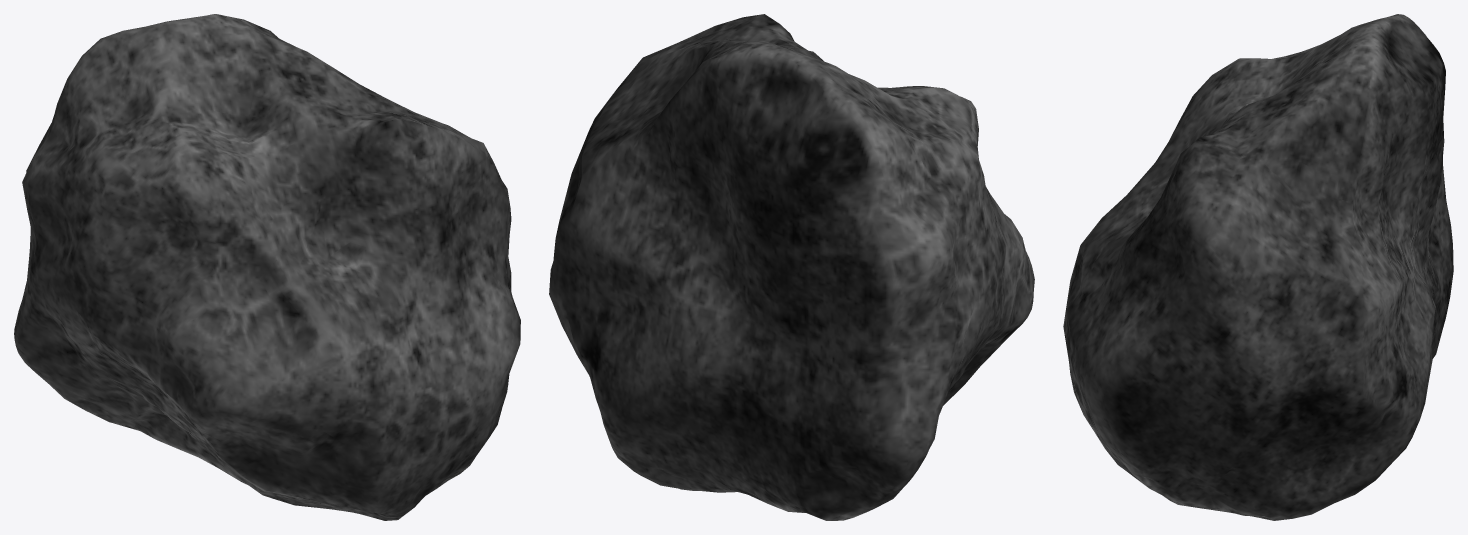
The model's file is Asteroid_4.fbx.
The picture shows the model from 3 angles, left to right: view 1: azimuth 30°, elevation 25°; view 2: azimuth 150°, elevation 25°; view 3: azimuth 270°, elevation 25°; orthographic projection. The views are drawn at different scales.
Parts seen in each view (by area): view 1: Asteroid_no_4; view 2: Asteroid_no_4; view 3: Asteroid_no_4.
Boxes of the visible parts, bbox=[...] form: Asteroid_no_4: bbox=[14, 14, 520, 520]; Asteroid_no_4: bbox=[549, 14, 1034, 520]; Asteroid_no_4: bbox=[1063, 14, 1453, 520].
Bounding box in the file's own units: 791 × 832 × 699.
1 material, 1 textured.
